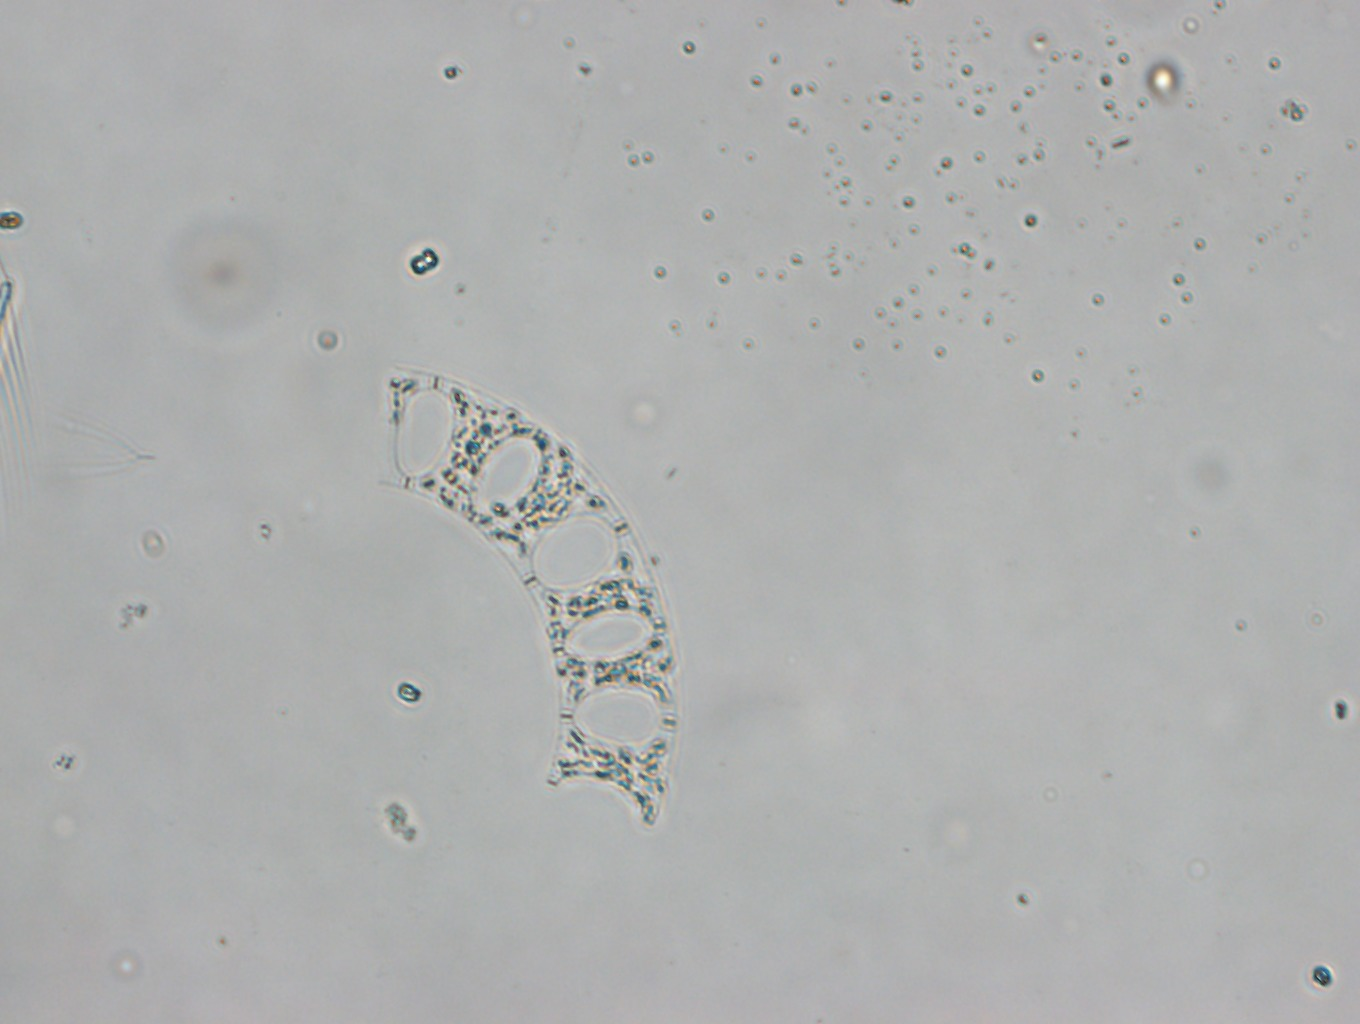eucampia: (372, 366, 681, 827)
